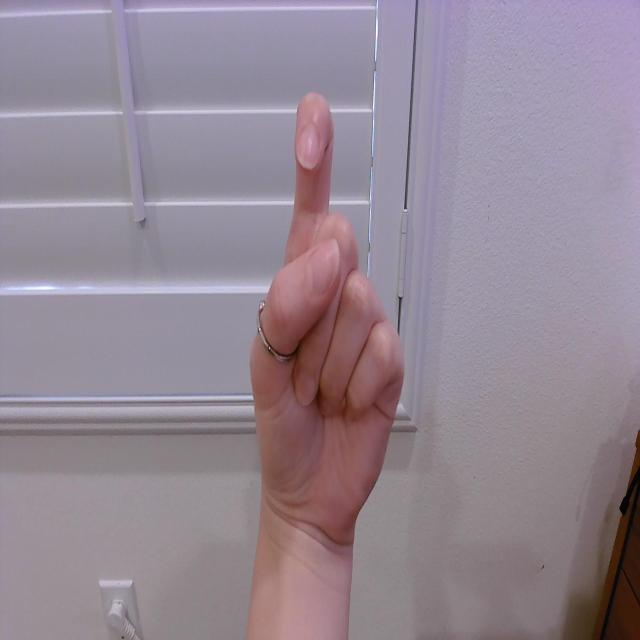X: (251, 86, 406, 546)
